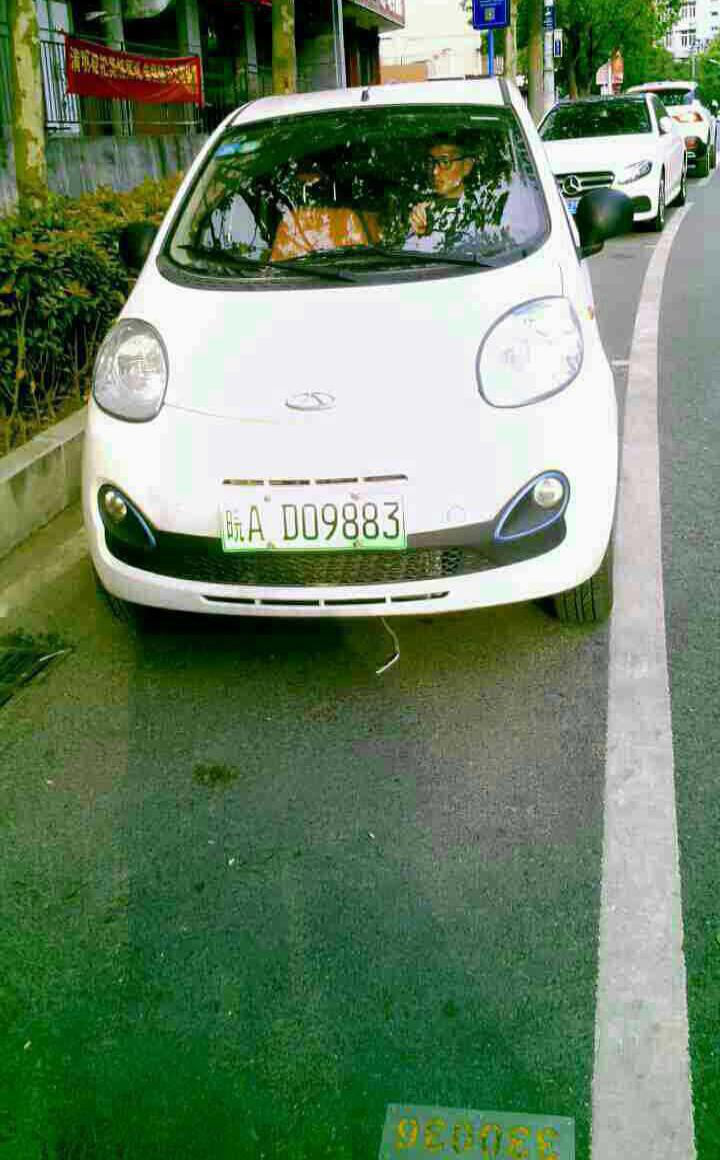car: (215, 493, 415, 559)
